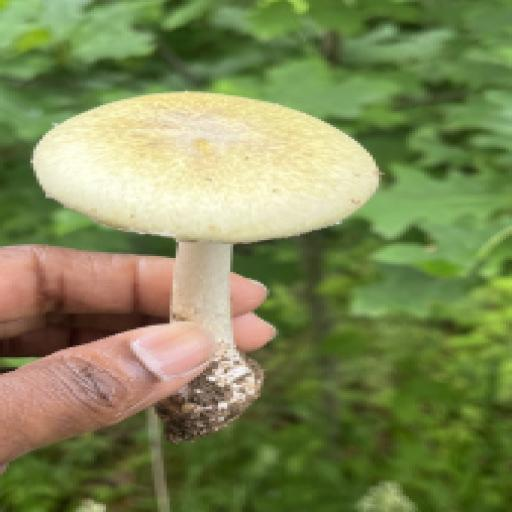mushroom: (19, 5, 452, 454)
